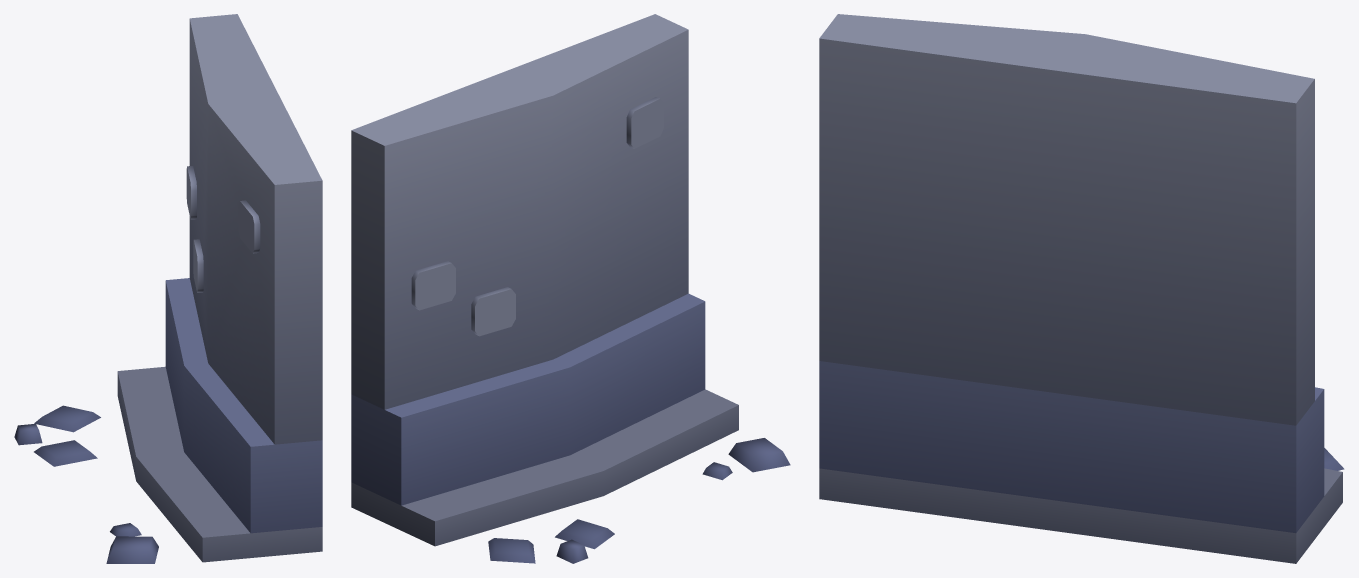
The model's file is template-wall.010.008_lev1.glb.
3 views of the same model, side by side, from view 1: azimuth 30°, elevation 25°; view 2: azimuth 150°, elevation 25°; view 3: azimuth 270°, elevation 25° (orthographic). The views are drawn at different scales.
Parts seen in each view (by area): view 1: template-wall.010.008_lev1; view 2: template-wall.010.008_lev1; view 3: template-wall.010.008_lev1.
Boxes of the visible parts, x1,y1,x2,y2 form: template-wall.010.008_lev1: (14,14,322,563); template-wall.010.008_lev1: (351,14,790,563); template-wall.010.008_lev1: (819,14,1344,563).
Bounding box in the file's own units: 4.21 × 5.3 × 5.48.
1 material, 1 textured.
